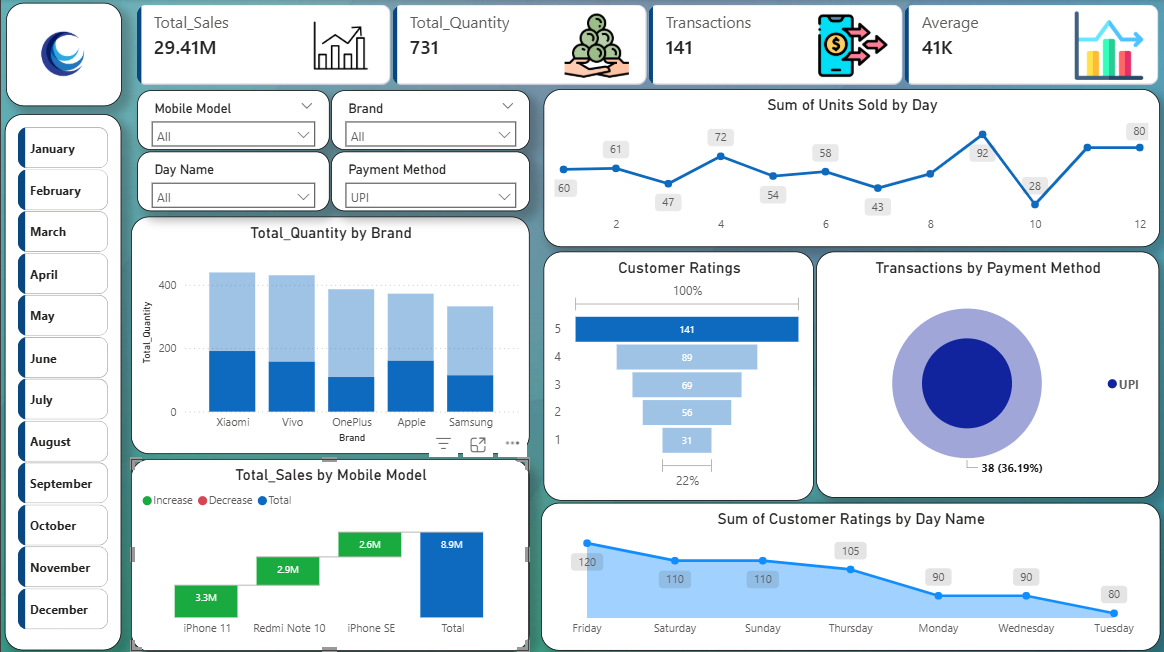

Layout of this report page (visuals, bound fields, positions):
{"tool":"powerbi","page":{"name":"Page 1","canvas":[1280,720],"ordinal":0},"visuals":[{"type":"shape","box":[5,3.8,127.5,113.8],"z":0},{"type":"image","box":[13.8,11.2,108.8,98.8],"z":1000},{"type":"shape","box":[4.7,126.6,128.1,589.1],"z":2000},{"type":"advancedSlicerVisual","fields":{"Values":["Sheet1.Date.Variation.Date Hierarchy.Month"]},"box":[14.1,135.9,109.4,571.9],"z":3000},{"type":"cardVisual","fields":{"Data":["Mobile_Sales_Data.Total_Sales","Mobile_Sales_Data.Total_Quantity","Mobile_Sales_Data.Transactions","Mobile_Sales_Data.Average"]},"box":[142.7,0,1137.6,100.2],"z":4000},{"type":"clusteredColumnChart","fields":{"Y":["Mobile_Sales_Data.Total_Quantity"],"Category":["Mobile_Sales_Data.Brand"]},"box":[142.2,239.1,437.5,260.9],"z":5000},{"type":"lineChart","fields":{"Y":["Sum(Mobile_Sales_Data.Units Sold)"],"Category":["Mobile_Sales_Data.Date.Variation.Date Hierarchy.Month","Mobile_Sales_Data.Date.Variation.Date Hierarchy.Day"]},"box":[595.3,98.4,676.6,173.4],"z":6000},{"type":"waterfallChart","fields":{"Category":["Mobile_Sales_Data.Mobile Model"],"Y":["Mobile_Sales_Data.Total_Sales"]},"box":[142.2,504.7,437.5,210.9],"z":7000},{"type":"pieChart","fields":{"Y":["Mobile_Sales_Data.Transactions"],"Category":["Mobile_Sales_Data.Payment Method"]},"box":[895.3,276.6,376.6,270.3],"z":8000},{"type":"funnel","title":"Customer Ratings","fields":{"Category":["Mobile_Sales_Data.Customer Ratings"],"Y":["CountNonNull(Mobile_Sales_Data.Customer Ratings)"]},"box":[595.3,276.6,296.9,273.4],"z":9000},{"type":"areaChart","fields":{"Category":["Mobile_Sales_Data.Day Name"],"Y":["Sum(Mobile_Sales_Data.Customer Ratings)"]},"box":[592.2,553.1,679.7,162.5],"z":10000},{"type":"slicer","fields":{"Values":["Mobile_Sales_Data.Mobile Model"]},"box":[150,100,210.9,65.6],"z":11000},{"type":"slicer","fields":{"Values":["Mobile_Sales_Data.Brand"]},"box":[362.5,100,218.8,65.6],"z":12000},{"type":"slicer","fields":{"Values":["Mobile_Sales_Data.Day Name"]},"box":[150,167.2,210.9,65.6],"z":13000},{"type":"slicer","fields":{"Values":["Mobile_Sales_Data.Payment Method"]},"box":[362.5,167.2,218.8,65.6],"z":14000}]}

Visuals, with their boxes in screenshot pixels (x1, y1, x2, y2), scaled from the page's 1280x720 canvas onto the 1164x652 screenshot:
shape: box(5, 3, 120, 106)
image: box(13, 10, 111, 100)
shape: box(4, 115, 121, 648)
advancedSlicerVisual - Sheet1.Date.Variation.Date Hierarchy.Month: box(13, 123, 112, 641)
cardVisual - Mobile_Sales_Data.Total_Sales x Mobile_Sales_Data.Total_Quantity: box(130, 0, 1163, 91)
clusteredColumnChart - Mobile_Sales_Data.Total_Quantity x Mobile_Sales_Data.Brand: box(129, 217, 527, 453)
lineChart - Sum(Mobile_Sales_Data.Units Sold) x Mobile_Sales_Data.Date.Variation.Date Hierarchy.Month: box(541, 89, 1157, 246)
waterfallChart - Mobile_Sales_Data.Mobile Model x Mobile_Sales_Data.Total_Sales: box(129, 457, 527, 648)
pieChart - Mobile_Sales_Data.Transactions x Mobile_Sales_Data.Payment Method: box(814, 250, 1157, 495)
"Customer Ratings" funnel: box(541, 250, 811, 498)
areaChart - Mobile_Sales_Data.Day Name x Sum(Mobile_Sales_Data.Customer Ratings): box(539, 501, 1157, 648)
slicer - Mobile_Sales_Data.Mobile Model: box(136, 91, 328, 150)
slicer - Mobile_Sales_Data.Brand: box(330, 91, 529, 150)
slicer - Mobile_Sales_Data.Day Name: box(136, 151, 328, 211)
slicer - Mobile_Sales_Data.Payment Method: box(330, 151, 529, 211)
